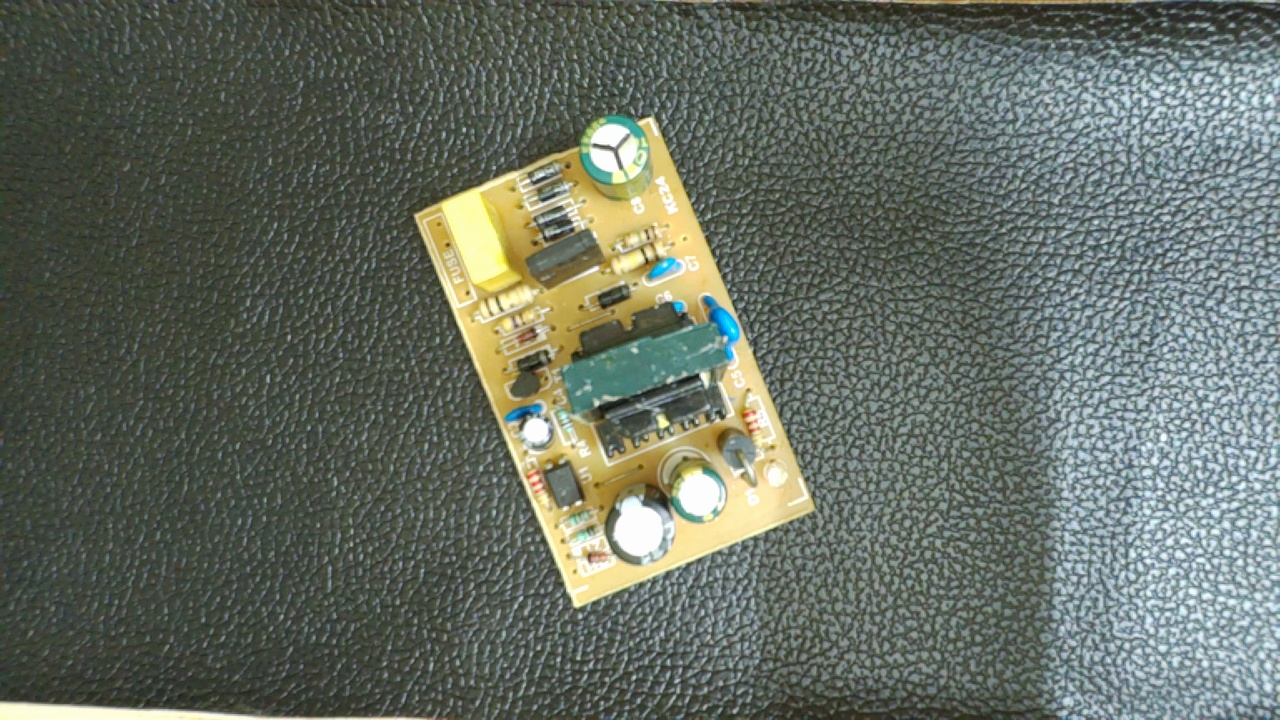hv_capacitor: (575, 117, 656, 204)
mov: (695, 293, 743, 354)
optocoupler: (534, 458, 591, 512)
